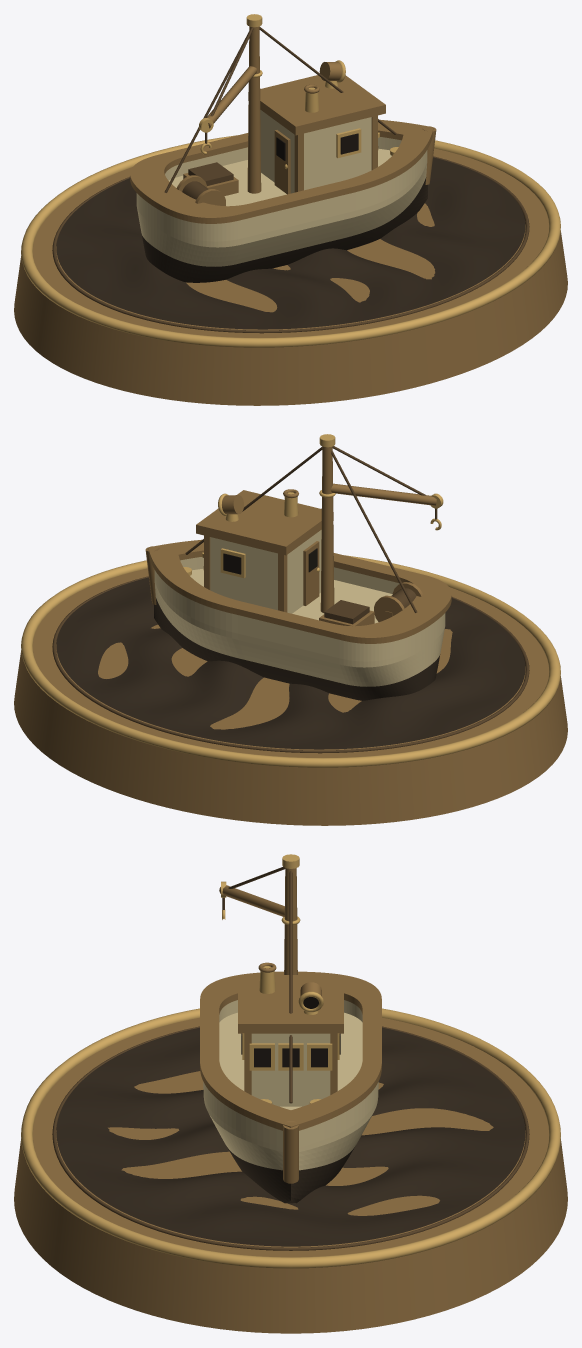
File: ch2-piece-boat.glb
The picture shows the model from 3 angles, top to bottom: view 1: azimuth 30°, elevation 25°; view 2: azimuth 150°, elevation 25°; view 3: azimuth 270°, elevation 25°; orthographic projection. The views are drawn at different scales.
Parts seen in each view (by area): view 1: base_body, base_field, hull_topsides, base_lip, cap_rail, house, house_roof, bulwark, hull_below_waterline, base_ring, mast, house_door (+5 smaller); view 2: base_body, base_field, hull_topsides, base_lip, cap_rail, house, house_roof, bulwark, hull_below_waterline, base_ring, mast, boom (+5 smaller); view 3: base_body, base_field, base_lip, cap_rail, hull_topsides, house_roof, house, base_ring, bulwark, hull_below_waterline, mast, stem_post (+2 smaller).
Part boxes in pixels (<box>): base_body: <box>14,148,567,405</box>; base_field: <box>56,157,525,329</box>; hull_topsides: <box>136,148,427,266</box>; base_lip: <box>21,135,560,347</box>; cap_rail: <box>130,119,433,223</box>; house: <box>260,110,371,193</box>; house_roof: <box>248,75,385,135</box>; bulwark: <box>136,137,427,235</box>; hull_below_waterline: <box>141,177,427,282</box>; base_ring: <box>52,156,529,333</box>; mast: <box>247,26,261,193</box>; house_door: <box>274,130,290,194</box>; base_body: <box>14,568,567,825</box>; base_field: <box>56,577,525,749</box>; hull_topsides: <box>154,568,445,686</box>; base_lip: <box>21,555,560,767</box>; cap_rail: <box>148,539,451,643</box>; house: <box>210,530,321,613</box>; house_roof: <box>196,490,333,555</box>; bulwark: <box>154,557,445,655</box>; hull_below_waterline: <box>154,598,440,700</box>; base_ring: <box>52,576,529,753</box>; mast: <box>320,446,334,612</box>; boom: <box>330,483,436,505</box>; base_body: <box>14,1017,567,1333</box>; base_field: <box>56,1027,525,1246</box>; base_lip: <box>21,1008,560,1268</box>; cap_rail: <box>200,971,381,1130</box>; hull_topsides: <box>203,1012,378,1170</box>; house_roof: <box>238,975,343,1033</box>; house: <box>251,1033,330,1106</box>; base_ring: <box>52,1026,529,1250</box>; bulwark: <box>203,1000,378,1142</box>; hull_below_waterline: <box>227,1147,354,1203</box>; mast: <box>284,868,297,974</box>; stem_post: <box>283,1121,298,1183</box>.
Bounding box in the file's own units: 0.1895 × 0.1054 × 0.1648.
